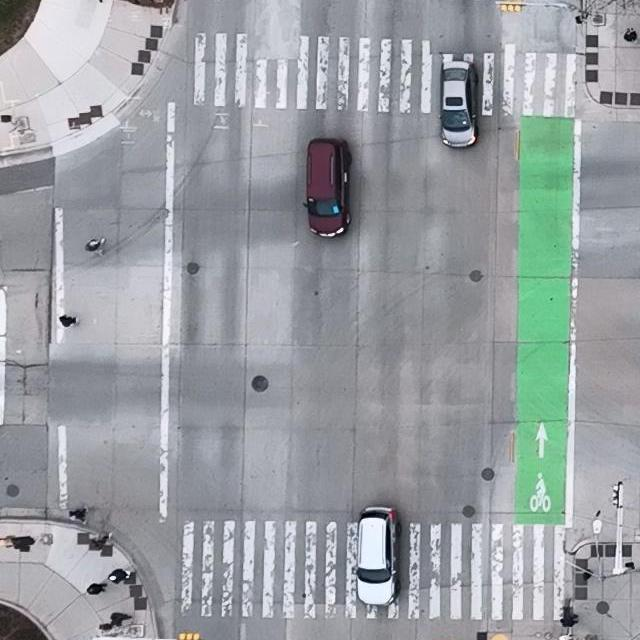car: (352, 506, 403, 607), (303, 137, 353, 238), (437, 60, 479, 150)
